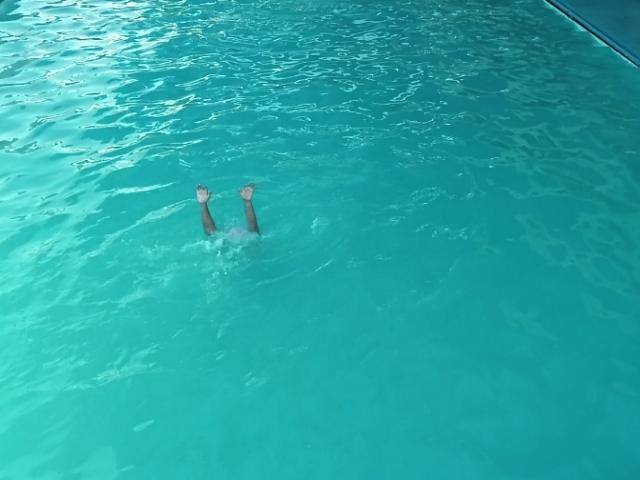drowning: (193, 184, 264, 261)
